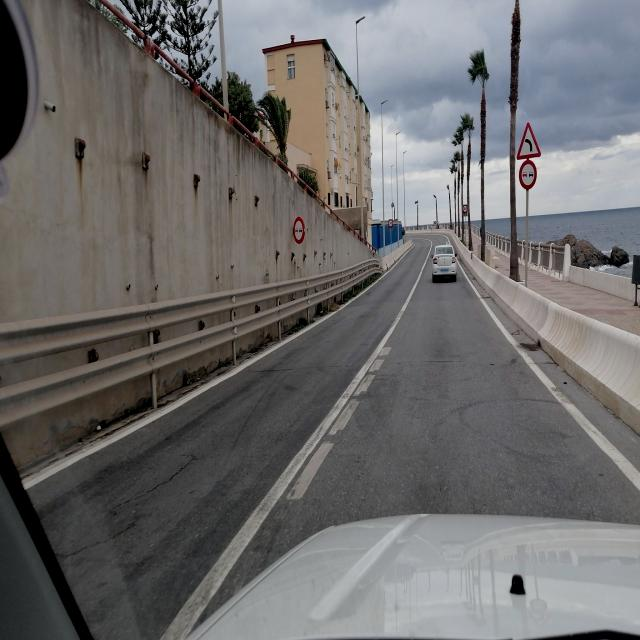car: (430, 243, 458, 283)
